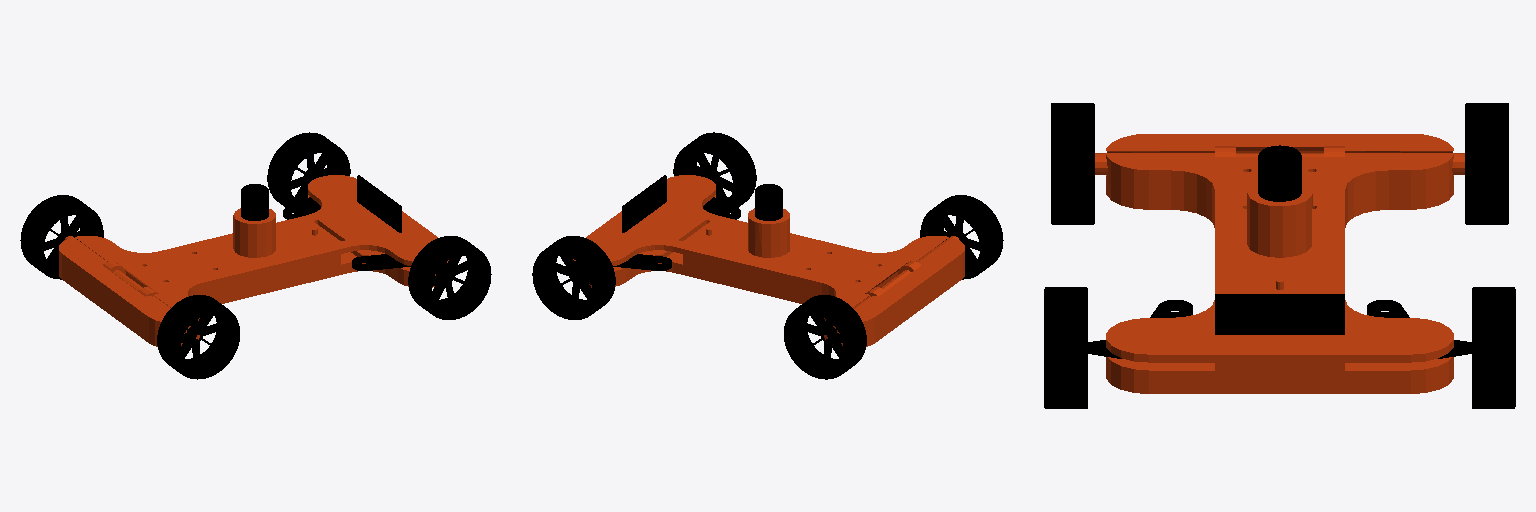
robot.urdf — mycar:
<?xml version="1.0" encoding="utf-8"?>

<robot name="mycar">

    <link name="base_footprint">
    </link>

    <link name="base_link">
    <inertial>
      <origin
        xyz="-0.00147362422004001 6.9343503716901E-09 0.00536008937256086"
        rpy="0 0 0" />
      <mass
        value="0.0535695794639803" />
      <inertia
        ixx="1.58915072354413E-05"
        ixy="3.28982930034889E-1"
        ixz="-4.11562321303683E-01"
        iyy="7.87113506730212E-02"
        iyz="-4.06595828048343E-1"
        izz="9.31044332979492E-05" />
    </inertial>
        <visual>
            <geometry>
                <mesh
          filename="package://car/meshes/body.STL" />
            </geometry>
            
            <origin xyz="0 0 0" 
                    rpy="0 0 0" />
            <material name="yellow">
                <color rgba="0.8 0.3 0.1 0.5" />
            </material>
        </visual>
        <collision>
            <geometry>
                <mesh
          filename="package://car/meshes/body.STL" />
            </geometry>
            <origin xyz="0.0 0.0 0.0" rpy="0.0 0.0 0.0" />
        </collision>

    </link>

    <joint name="base_link_joint" type="fixed">
        <parent link="base_footprint" />
        <child link="base_link"/>
        <origin xyz="0 0 0.006" rpy="0 0 0" />
    </joint>

  <link name="front_wheel_L">
    <inertial>
      <origin
        xyz="-0.00753777386632463 0.000177263406601652 -6.07153216591882E-18"
        rpy="0 0 0" />
      <mass
        value="0.000481586729230747" />
      <inertia
        ixx="1.87399910018502E-08"
        ixy="-1.62392528662394E-08"
        ixz="-2.41922450517481E-23"
        iyy="2.74496585048313E-08"
        iyz="-1.36522443884057E-23"
        izz="4.58709478816845E-08" />
    </inertial>
        <visual>
            <geometry>
              <mesh
                filename="package://car/meshes/front_wheel_L.STL" />
            </geometry>
            <origin xyz="0 0 0" rpy="0 0 0" />
            <material name="black">
                <color rgba="0.0 0.0 0.0 1.0" />
            </material>
        </visual>
        <collision>
            <geometry>
              <mesh
                filename="package://car/meshes/front_wheel_L.STL" />
            </geometry>
            <origin xyz="0.0 0.0 0.0" rpy="0 0.0 0.0" />
        </collision>
    </link>


    <joint name="wheel_FL" type="revolute">
        <parent link="base_link" />
        <child link="front_wheel_L" />
        <origin xyz="0.049931 0.03 0.007" />
        <axis xyz="0 0 -1" />
        <limit lower="-0.6" upper="0.6" effort="5.0" velocity="1000.0"/>
    </joint>



    <link name="front_wheel_L1">
    <inertial>
      <origin
        xyz="-4.62183183356363E-06 -0.00018264376061719 -5.56418251074914E-07"
        rpy="0 0 0" />
      <mass
        value="0.00324224485712225" />
      <inertia
        ixx="2.53106804467257E-07"
        ixy="1.10831149995369E-12"
        ixz="6.02935982915659E-14"
        iyy="4.5273102300453E-07"
        iyz="1.33425546209352E-13"
        izz="2.53106309699742E-07" />
    </inertial>
        <visual>
            <geometry>
        <mesh
          filename="package://car/meshes/front_wheel_L1.STL" />
            </geometry>
            <origin xyz="0 0 0" rpy="0 0 0" />
            <material name="black">
                <color rgba="0.0 0.0 0.0 1.0" />
            </material>
        </visual>
        <collision>
            <geometry>
        <mesh
          filename="package://car/meshes/front_wheel_L1.STL" />
            </geometry>
            <origin xyz="0.0 0.0 0.0" rpy="0 0.0 0.0" />
        </collision>

    </link>
    
    <joint name="wheel_FL1" type="continuous">
        <parent link="front_wheel_L" />
        <child link="front_wheel_L1" />
        <origin
          xyz="0 0.019012 0"
          rpy="0 0 0" />
        <axis xyz="0 -1 0" />
        <limit effort="10" velocity="1000" />
    </joint>


  <link name="front_wheel_R">
    <inertial>
      <origin
        xyz="-0.00753777386632665 -0.000177263406515943 -3.46944695195361E-18"
        rpy="0 0 0" />
      <mass
        value="0.000481586729230747" />
      <inertia
        ixx="1.87399910022195E-08"
        ixy="1.62392528663385E-08"
        ixz="2.82336933173068E-22"
        iyy="2.74496585044619E-08"
        iyz="-3.2102460077579E-22"
        izz="4.58709478816845E-08" />
    </inertial>
        <visual>
            <geometry>
              <mesh
                filename="package://car/meshes/front_wheel_R.STL" />
            </geometry>
            <origin xyz="0 0 0" rpy="0 0 0" />
            <material name="black">
                <color rgba="0.0 0.0 0.0 1.0" />
            </material>
        </visual>
        <collision>
            <geometry>
              <mesh
                filename="package://car/meshes/front_wheel_R.STL" />
            </geometry>
            <origin xyz="0.0 0.0 0.0" rpy="0 0.0 0.0" />
        </collision>
    </link>


    <joint name="wheel_FR" type="revolute">
        <parent link="base_link" />
        <child link="front_wheel_R" />
        <origin xyz="0.049931 -0.03 0.007" />
        <axis xyz="0 0 1" />
        <limit lower="-0.6" upper="0.6" effort="5.0" velocity="1000.0"/>
    </joint>



    <link name="front_wheel_R1">
    <inertial>
      <origin
        xyz="3.93133002957874E-06 0.000182643760617038 -2.49310548737416E-06"
        rpy="0 0 0" />
      <mass
        value="0.00324224485712225" />
      <inertia
        ixx="2.53106665776627E-07"
        ixy="9.42731118825678E-13"
        ixz="-2.30260386084967E-13"
        iyy="4.52731023004529E-07"
        iyz="-5.97841624196346E-13"
        izz="2.53106448390372E-07" />
    </inertial>
        <visual>
            <geometry>
        <mesh
          filename="package://car/meshes/front_wheel_R1.STL" />
            </geometry>
            <origin xyz="0 0 0" rpy="0 0 0" />
            <material name="black">
                <color rgba="0.0 0.0 0.0 1.0" />
            </material>
        </visual>
        <collision>
            <geometry>
        <mesh
          filename="package://car/meshes/front_wheel_R1.STL" />
            </geometry>
            <origin xyz="0.0 0.0 0.0" rpy="0 0.0 0.0" />
        </collision>

    </link>
    
    <joint name="wheel_FR1" type="continuous">
        <parent link="front_wheel_R" />
        <child link="front_wheel_R1" />
        <origin
          xyz="0 -0.019012 0"
          rpy="0 0 0" />
        <axis xyz="0 1 0" />
        <limit effort="10" velocity="1000" />
    </joint>

    <link name="rear_wheel_L">
   <inertial>
      <origin
        xyz="3.52367652840802E-07 -0.000182643760617024 -4.64184961049123E-06"
        rpy="0 0 0" />
      <mass
        value="0.00324224485712225" />
      <inertia
        ixx="2.5310630535442E-07"
        ixy="-8.44949920599208E-14"
        ixz="-3.82950631187598E-14"
        iyy="4.5273102300453E-07"
        iyz="1.1131110678842E-12"
        izz="2.53106808812579E-07" />
    </inertial>
        <visual>
            <geometry>
        <mesh
          filename="package://car/meshes/rear_wheel_L.STL" />
            </geometry>
            <origin xyz="0 0 0" rpy="0 0 0" />
            <material name="black">
                <color rgba="0.0 0.0 0.0 1.0" />
            </material>
        </visual>
        <collision>
            <geometry>
        <mesh
          filename="package://car/meshes/rear_wheel_L.STL" />
            </geometry>
            <origin xyz="0.0 0.0 0.0" rpy="0 0.0 0.0" />
        </collision>

    </link>

    <joint name="wheel_RL" type="continuous">
        <parent link="base_link" />
        <child link="rear_wheel_L" />
        <origin xyz="-0.0500688876737955 0.0474999999999999 0.0070047900366488" />
        <axis xyz="0 -1 0" />
        <limit effort="10" velocity="1000" />
    </joint>

    <link name="rear_wheel_R">
    <inertial>
      <origin
        xyz="3.52488196783685E-07 0.000182643760617052 -4.64184045821073E-06"
        rpy="0 0 0" />
      <mass
        value="0.00324224485712224" />
      <inertia
        ixx="2.53106305399543E-07"
        ixy="8.45287268907546E-14"
        ixz="-3.85905086993823E-14"
        iyy="4.52731023004529E-07"
        iyz="-1.11310841004132E-12"
        izz="2.53106808767456E-07" />
    </inertial>
        <visual>
            <geometry>
        <mesh
          filename="package://car/meshes/rear_wheel_R.STL" />
            </geometry>
            <origin xyz="0 0 0" rpy="0 0 0" />
            <material name="black">
                <color rgba="0.0 0.0 0.0 1.0" />
            </material>
        </visual>
        <collision>
            <geometry>
        <mesh
          filename="package://car/meshes/rear_wheel_R.STL" />
            </geometry>
            <origin xyz="0.0 0.0 0.0" rpy="0 0.0 0.0" />
        </collision>

    </link>

    <joint name="wheel_RR" type="continuous">
        <parent link="base_link" />
        <child link="rear_wheel_R" />
        <origin xyz="-0.0500688876737955 -0.0474999999999999 0.0070047900366488" />
        <axis xyz="0 1 0" />
        <limit effort="10" velocity="1000" />
    </joint>f

    <link name="lidar">
    <inertial>
      <origin
        xyz="-8.67361737988404E-19 -1.38777878078145E-17 -0.00549365953697964"
        rpy="0 0 0" />
      <mass
        value="0.000837862295674521" />
      <inertia
        ixx="1.36537563477024E-08"
        ixy="-2.15411620338094E-28"
        ixz="-3.3045437194642E-25"
        iyy="1.36537563477024E-08"
        iyz="-1.84530471794778E-24"
        izz="9.85393136281939E-09" />
    </inertial>
        <visual>
            <geometry>
        <mesh
          filename="package://car/meshes/camera.STL" />
            </geometry>
            <origin xyz="0 0 0" rpy="0 0 0" />
            <material name="red">
                <color rgba="0.0 0.0 0.0 1.0" />
            </material>
        </visual>
        <collision>
            <geometry>
        <mesh
          filename="package://car/meshes/camera.STL" />
            </geometry>
            <origin xyz="0.0 0.0 0.0" rpy="0.0 0.0 0.0" />
        </collision>
    </link>

    <joint name="lidar_joint" type="fixed">
        <parent link="base_link" />
        <child link="lidar" />
        <origin xyz="-6.8524E-05 0 0.033" />
        <axis xyz="0 0 -1" />
    </joint>

    <link name="camera">
        <visual>
            <geometry>
                <box size="0.001 0.03 0.005"/>
            </geometry>
            <origin xyz="0 0 0" rpy="0 0 0" />
            <material name="black">
                <color rgba="0.0 0.0 0.0 1.0" />
            </material>
        </visual>
        <collision>
            <geometry>
                <box size="0.001 0.03 0.005"/>
            </geometry>
            <origin xyz="0.0 0.0 0.0" rpy="0.0 0.0 0.0" />
        </collision>
        <inertial>
            <origin xyz="0 0 0" />
            <mass value="0.05" />
            <inertia ixx="6.64E-04" ixy="0" ixz="0" iyy="6.64E-04" iyz="0" izz="1.02E-03" />
        </inertial>
    </link>

    <joint name="camera_joint" type="fixed">
        <parent link="base_link" />
        <child link="camera" />
        <origin xyz="0.05 0.0 0.018" />
        <axis xyz="0 0 1" />
    </joint>

    <link name="real_sense">
        <visual>
            <geometry>
                <box size="0.001 0.03 0.005"/>
            </geometry>
            <origin xyz="0 0 0" rpy="0 0 0" />
            <material name="black">
                <color rgba="0.0 0.0 0.0 1.0" />
            </material>
        </visual>
        <collision>
            <geometry>
                <box size="0.001 0.03 0.005"/>
            </geometry>
            <origin xyz="0.0 0.0 0.0" rpy="0.0 0.0 0.0" />
        </collision>
        <inertial>
            <origin xyz="0 0 0" />
            <mass value="0.05" />
            <inertia ixx="6.64E-04" ixy="0" ixz="0" iyy="6.64E-04" iyz="0" izz="1.02E-03" />
        </inertial>
    </link>

    <joint name="realsense_joint" type="fixed">
        <parent link="base_link" />
        <child link="real_sense" />
        <origin xyz="0.05 0.0 0.013" />
        <axis xyz="0 0 1" />
    </joint>

</robot>

--- Facts derived from the render (not from the file) ---
3 views of the same robot in one strip: view 1: azimuth 30°, elevation 25°; view 2: azimuth 150°, elevation 25°; view 3: azimuth 270°, elevation 25° (orthographic).
Model mycar with 11 links and 10 joints (2 revolute, 4 continuous, 4 fixed), rooted at base_footprint, posed every joint at zero.
Links seen in each view (by area): view 1: base_link, front_wheel_R1, rear_wheel_R, rear_wheel_L, front_wheel_L1, lidar, camera, front_wheel_R, real_sense; view 2: base_link, front_wheel_L1, rear_wheel_L, rear_wheel_R, front_wheel_R1, lidar, camera, front_wheel_L, real_sense; view 3: base_link, rear_wheel_L, rear_wheel_R, front_wheel_R1, front_wheel_L1, camera, real_sense, lidar, front_wheel_L, front_wheel_R.
Boxes of the visible links, left/top/right/bottom form: base_link: left=59, top=175, right=448, bottom=346; front_wheel_R1: left=408, top=236, right=491, bottom=319; rear_wheel_R: left=157, top=295, right=239, bottom=379; rear_wheel_L: left=20, top=195, right=103, bottom=279; front_wheel_L1: left=267, top=132, right=350, bottom=213; lidar: left=241, top=184, right=268, bottom=220; camera: left=357, top=175, right=401, bottom=219; front_wheel_R: left=352, top=254, right=451, bottom=279; real_sense: left=357, top=189, right=401, bottom=232; base_link: left=573, top=175, right=964, bottom=346; front_wheel_L1: left=532, top=236, right=615, bottom=319; rear_wheel_L: left=784, top=295, right=866, bottom=379; rear_wheel_R: left=920, top=195, right=1003, bottom=279; front_wheel_R1: left=673, top=132, right=756, bottom=213; lidar: left=755, top=184, right=782, bottom=220; camera: left=622, top=175, right=666, bottom=219; front_wheel_L: left=572, top=254, right=671, bottom=279; real_sense: left=622, top=189, right=666, bottom=232; base_link: left=1095, top=134, right=1464, bottom=393; rear_wheel_L: left=1465, top=103, right=1508, bottom=224; rear_wheel_R: left=1051, top=103, right=1094, bottom=224; front_wheel_R1: left=1044, top=287, right=1087, bottom=408; front_wheel_L1: left=1472, top=287, right=1515, bottom=408; camera: left=1215, top=294, right=1344, bottom=315; real_sense: left=1215, top=316, right=1344, bottom=334; lidar: left=1258, top=145, right=1301, bottom=201; front_wheel_L: left=1367, top=300, right=1471, bottom=358; front_wheel_R: left=1088, top=300, right=1192, bottom=358.
Size in the robot's own frame: 0.128 by 0.108 by 0.04 metres.
Meshes: 8 distinct files referenced, 8 mesh visuals loaded (8 binary STL).